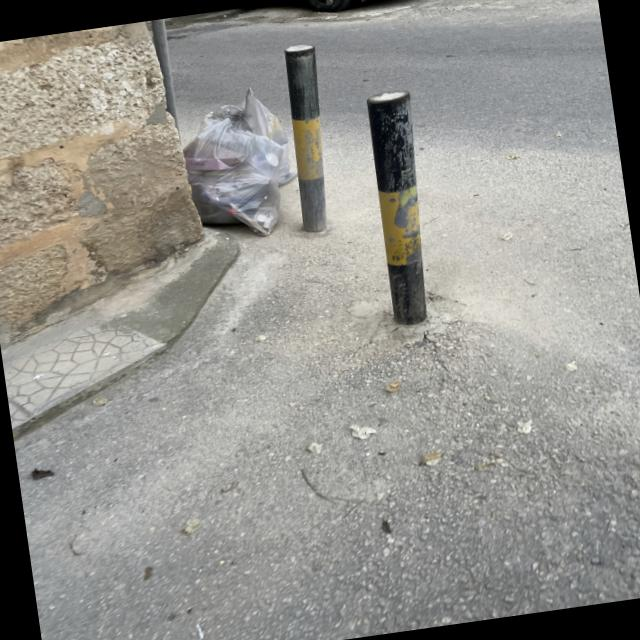grey_bag: (173, 85, 303, 248)
